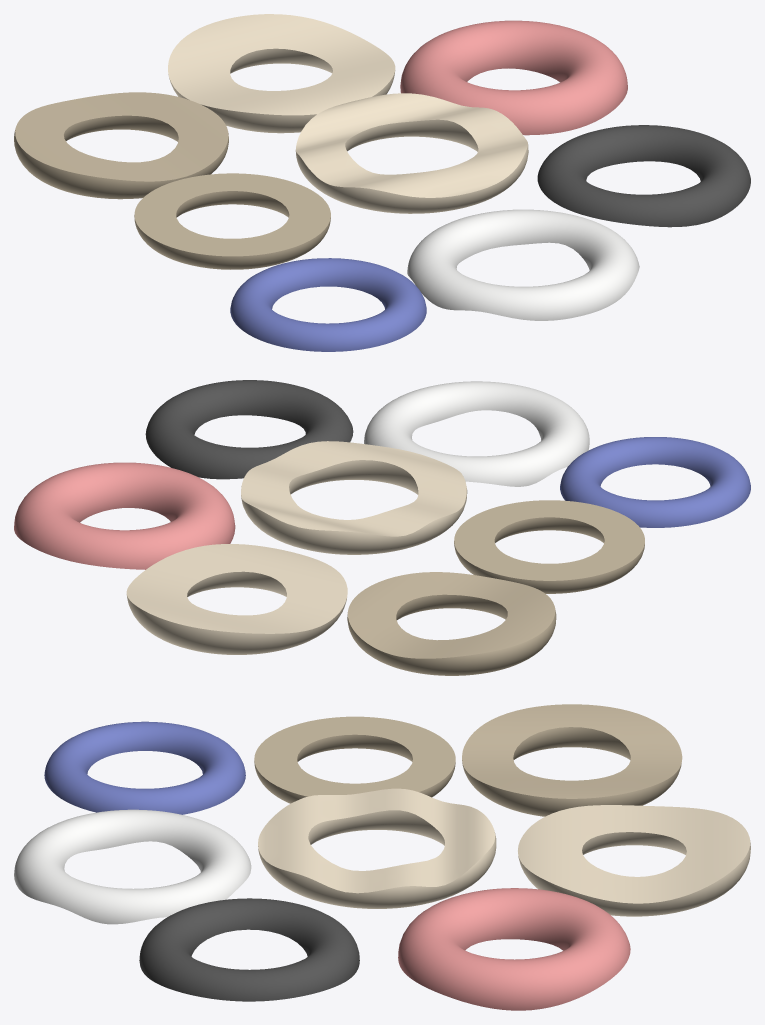
The model's file is testglb.glb.
3 renders of one model, top to bottom at view 1: azimuth 30°, elevation 25°; view 2: azimuth 150°, elevation 25°; view 3: azimuth 270°, elevation 25°, orthographic. The views are drawn at different scales.
Parts seen in each view (by area): view 1: Body1_node_1, Body2_node_0, Body1_node_0, Body2_node_1, Body2, Body1, Body2_node, Body1_node; view 2: Body2_node_0, Body1_node_1, Body1_node_0, Body2, Body2_node_1, Body1, Body2_node, Body1_node; view 3: Body1_node_0, Body1_node_1, Body2_node_0, Body2, Body2_node_1, Body1, Body1_node, Body2_node.
Part boxes in pixels (left/top/right/bottom): Body1_node_1: left=295, top=93, right=528, bottom=213; Body2_node_0: left=168, top=14, right=395, bottom=133; Body1_node_0: left=400, top=20, right=627, bottom=135; Body2_node_1: left=407, top=209, right=639, bottom=320; Body2: left=14, top=92, right=228, bottom=199; Body1: left=537, top=125, right=750, bottom=227; Body2_node: left=134, top=173, right=330, bottom=269; Body1_node: left=230, top=258, right=426, bottom=351; Body2_node_0: left=126, top=544, right=347, bottom=654; Body1_node_1: left=241, top=441, right=467, bottom=554; Body1_node_0: left=14, top=462, right=235, bottom=569; Body2: left=347, top=572, right=556, bottom=675; Body2_node_1: left=364, top=381, right=589, bottom=486; Body1: left=145, top=380, right=353, bottom=479; Body2_node: left=454, top=500, right=644, bottom=593; Body1_node: left=560, top=437, right=750, bottom=527; Body1_node_0: left=398, top=888, right=630, bottom=1010; Body1_node_1: left=258, top=788, right=496, bottom=908; Body2_node_0: left=518, top=805, right=750, bottom=916; Body2: left=462, top=704, right=682, bottom=816; Body2_node_1: left=14, top=809, right=251, bottom=924; Body1: left=139, top=898, right=359, bottom=1001; Body1_node: left=44, top=721, right=245, bottom=814; Body2_node: left=254, top=716, right=455, bottom=803.
Bounding box in the file's own units: 154 × 11.76 × 172.
